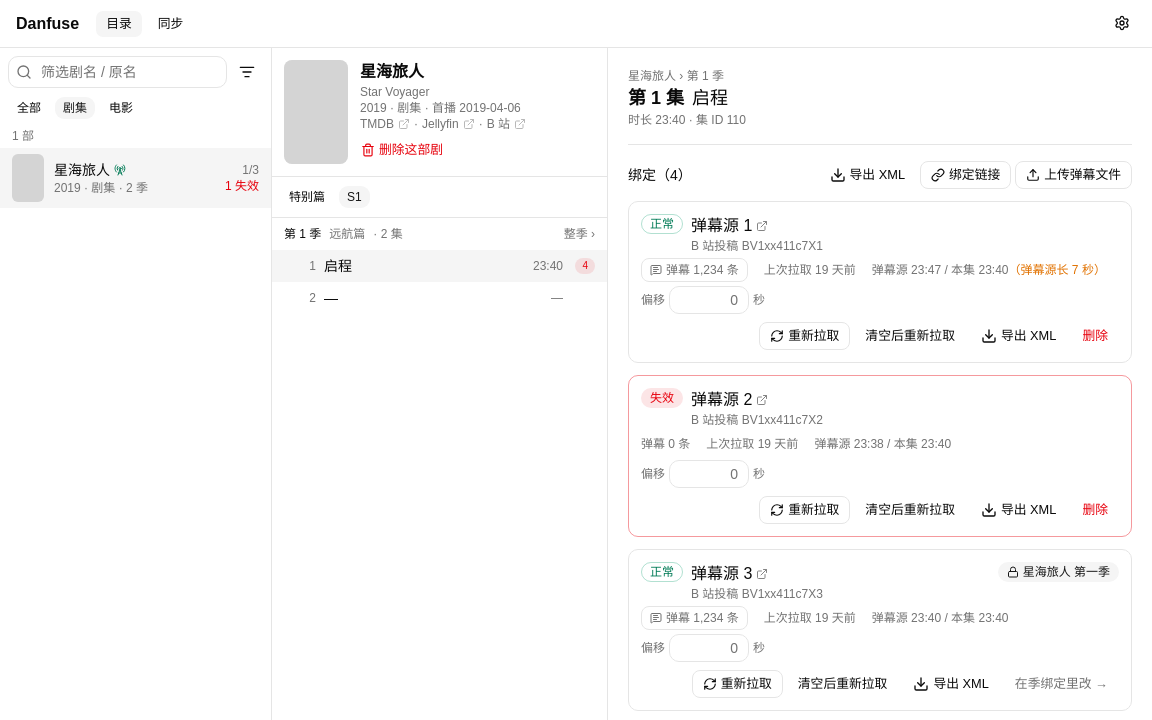
绑定 › 季绑定建出的绑定 › 和手动绑定排在一起，标签只写季绑定的名称，悬停提示来源，点它跳到季面板
Expected: the heading "绑定（4）" is shown, [628, 165, 692, 185]
What coordinates should you click on to do the following:
click the link "星海旅人 第一季"
I would click on:
 (1058, 572)
Its box is [998, 562, 1119, 582].
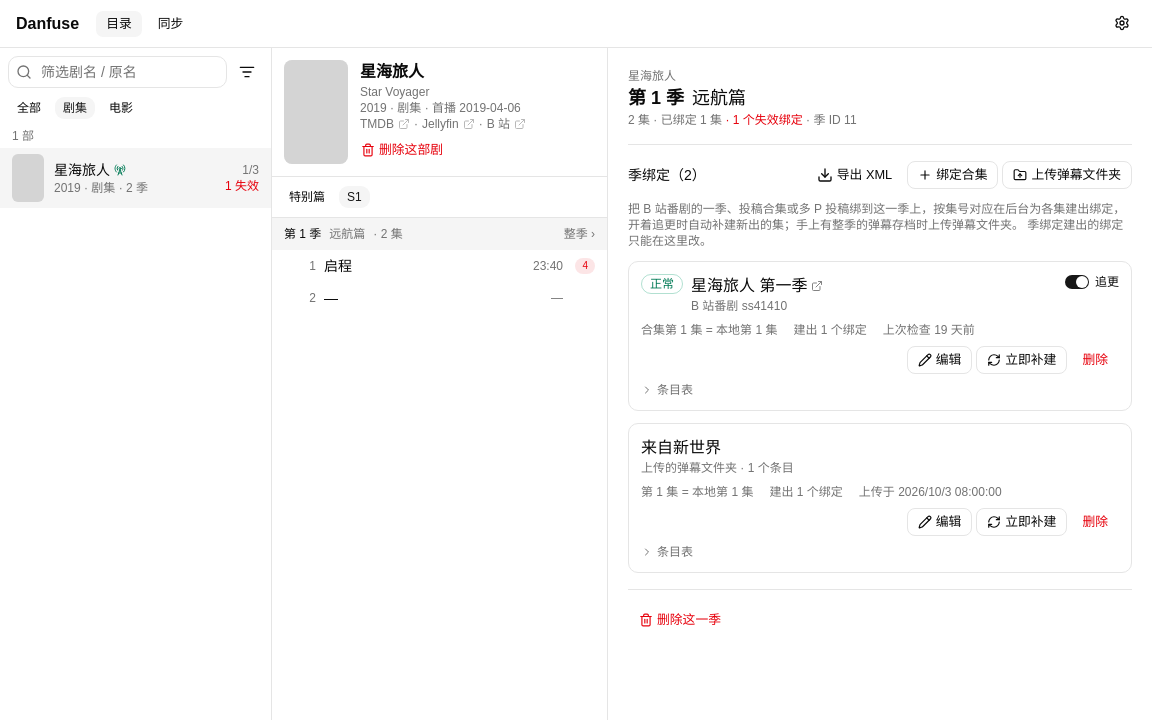
Expected: the text "2 集 · 已绑定 1 集 · 1 个失效绑定 · 季 ID 11" is shown, [628, 113, 857, 127]
